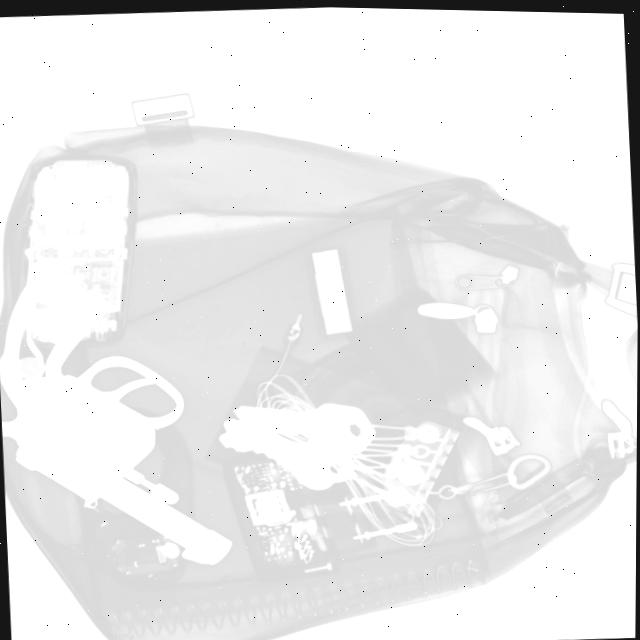pistol: (0, 260, 234, 573)
